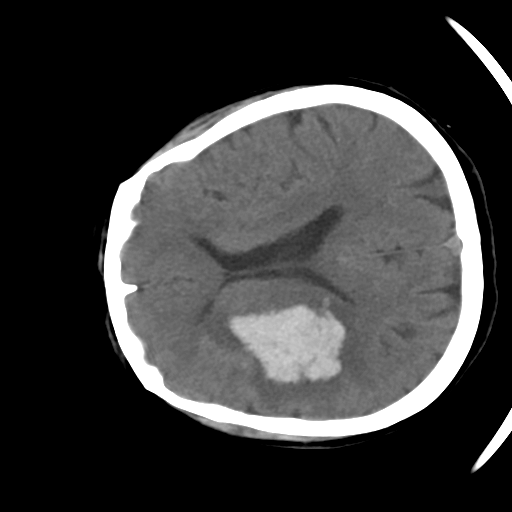a: (193, 283, 371, 413)
